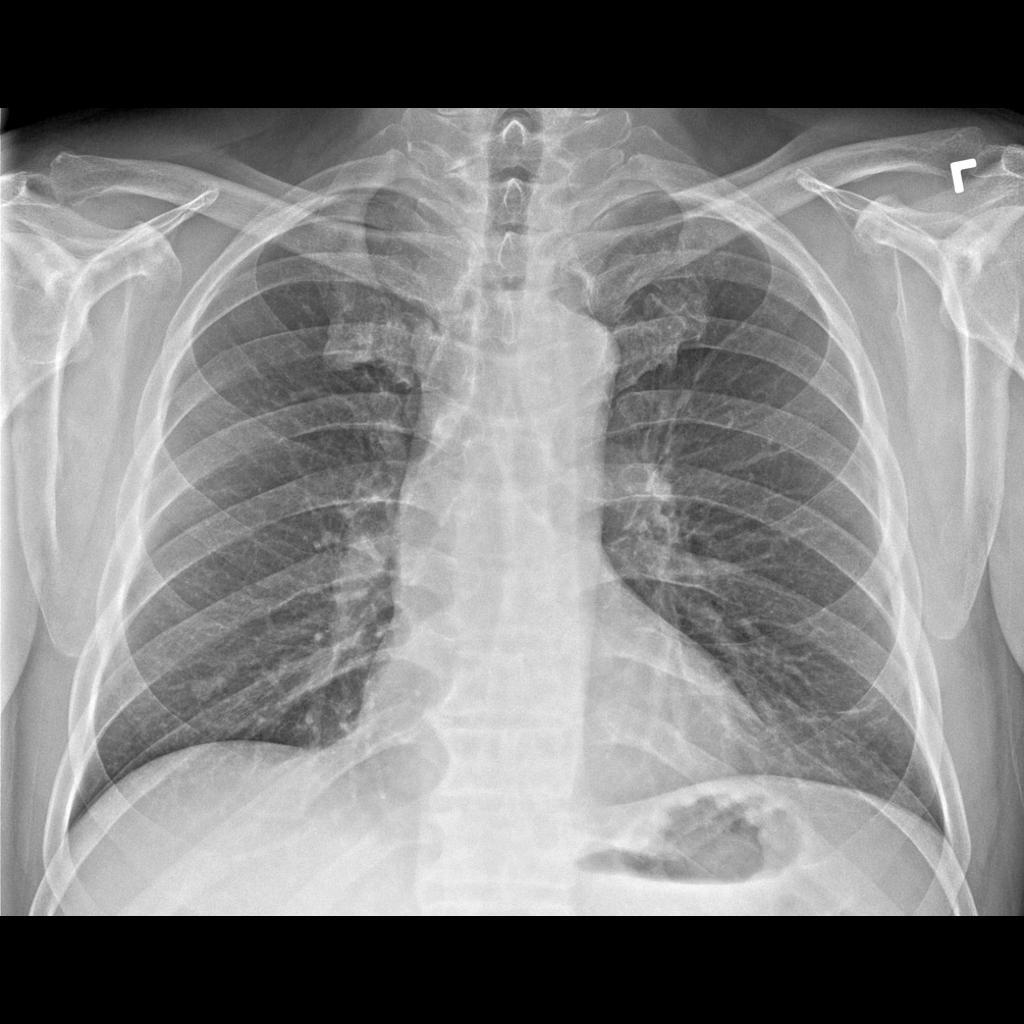Nodule: (180, 668, 235, 704)
